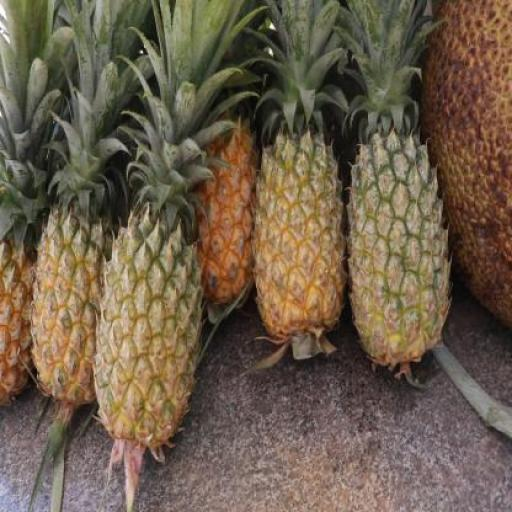------------------------------: (95, 218, 199, 440)
Pineapple - v8 v1: (252, 136, 344, 338), (31, 215, 112, 410), (194, 124, 259, 319)
